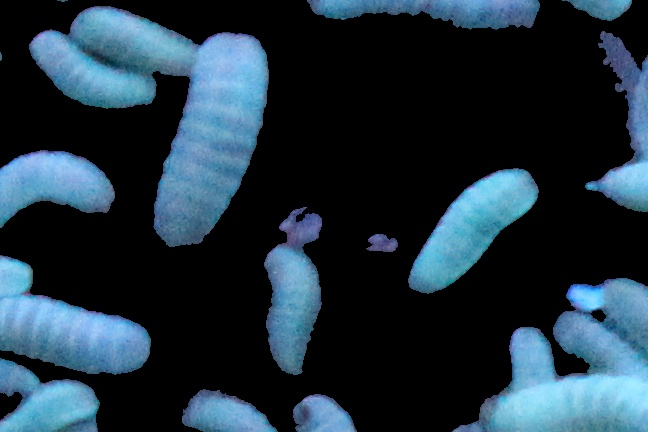larvae: (151, 31, 270, 247), (397, 166, 540, 295), (1, 296, 151, 376), (26, 26, 163, 108), (475, 373, 648, 430), (1, 151, 117, 235), (70, 7, 197, 73), (267, 239, 320, 376), (550, 309, 648, 376), (304, 1, 552, 27), (179, 389, 276, 432), (604, 277, 648, 363), (585, 163, 648, 213), (511, 329, 555, 388), (294, 392, 357, 432), (1, 360, 37, 399)
